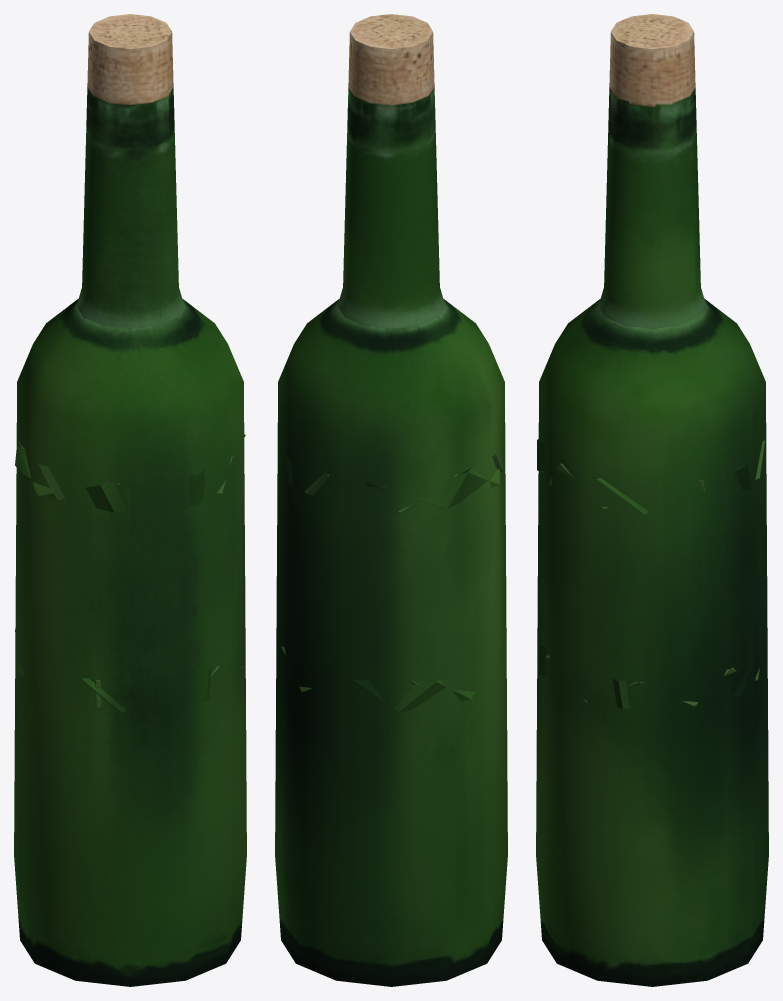
File: bottle_lod0.glb
3 views of the same model, side by side, from view 1: azimuth 30°, elevation 25°; view 2: azimuth 150°, elevation 25°; view 3: azimuth 270°, elevation 25° (orthographic).
Parts seen in each view (by area): view 1: low; view 2: low; view 3: low.
Boxes of the visible parts, box(x1,y1,x2,y2) form: low: box(14, 14, 246, 986); low: box(275, 14, 507, 986); low: box(536, 14, 768, 986).
Bounding box in the file's own units: 0.151 × 0.6498 × 0.151.
Materials: 1 (1 with a texture image).
